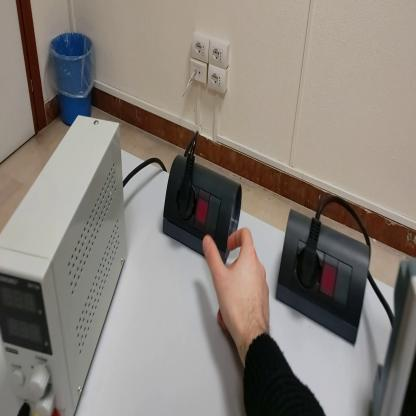hand: (203, 226, 272, 345)
oscilloscope: (373, 258, 416, 416)
power supply: (2, 111, 130, 414)
socket: (276, 209, 372, 346), (164, 154, 243, 267)
